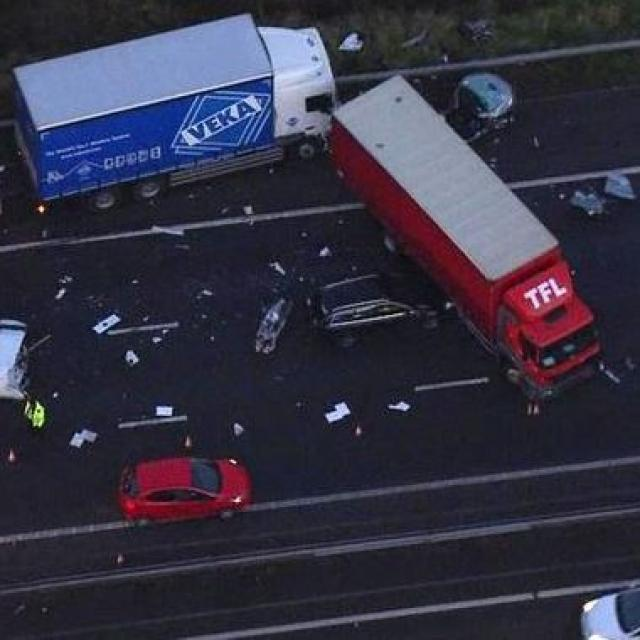traffic_incident: (301, 263, 480, 335)
